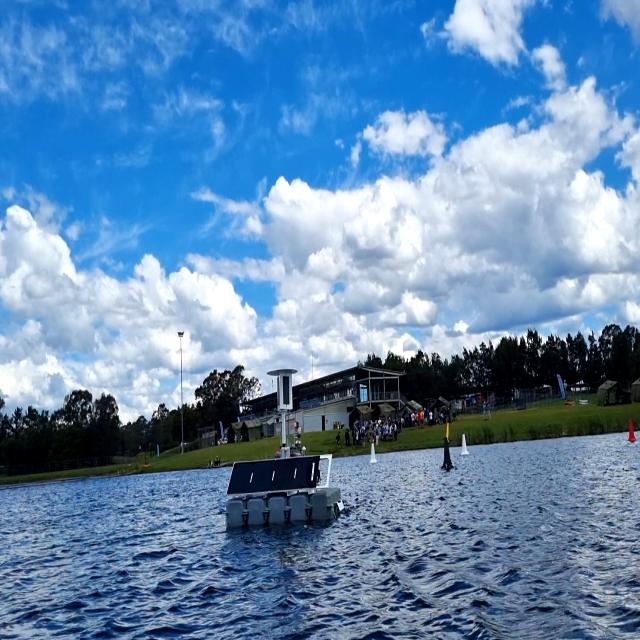led: (281, 373, 291, 408)
